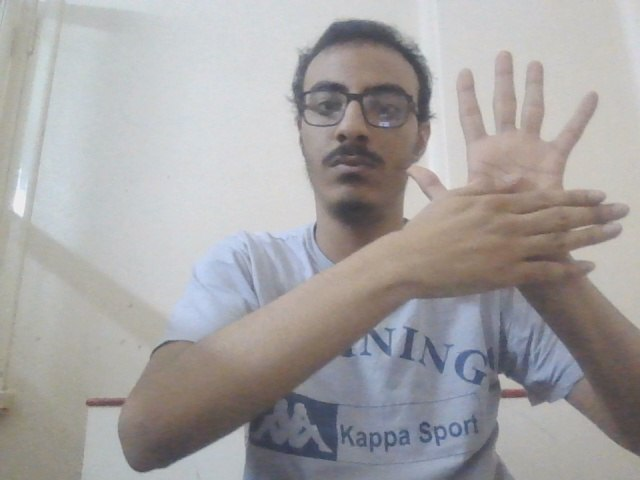Movie: (403, 50, 637, 304)
